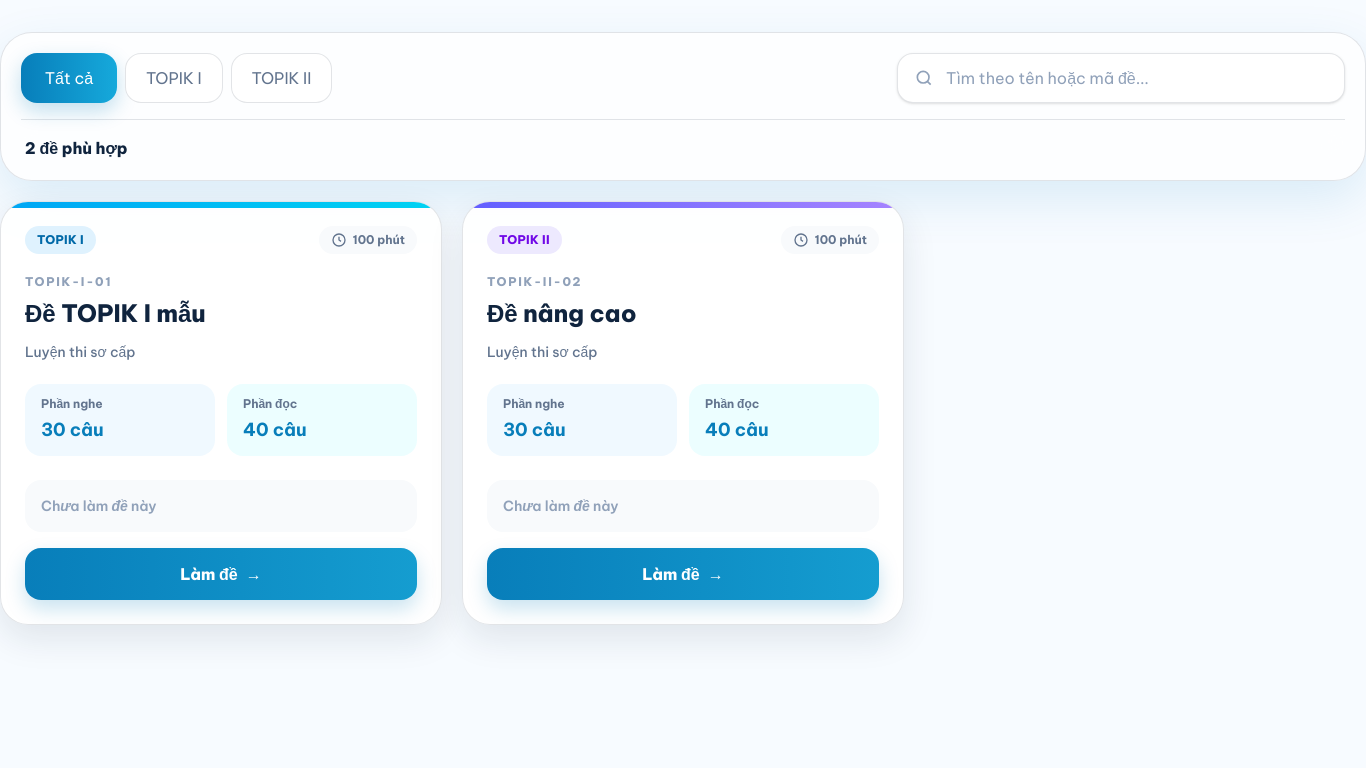
it: ExamLibraryGrid › lọc theo cấp độ và tìm kiếm không dấu
The image size is (1366, 768).
Click the button "TOPIK II": [281, 78] box [231,53,332,103]
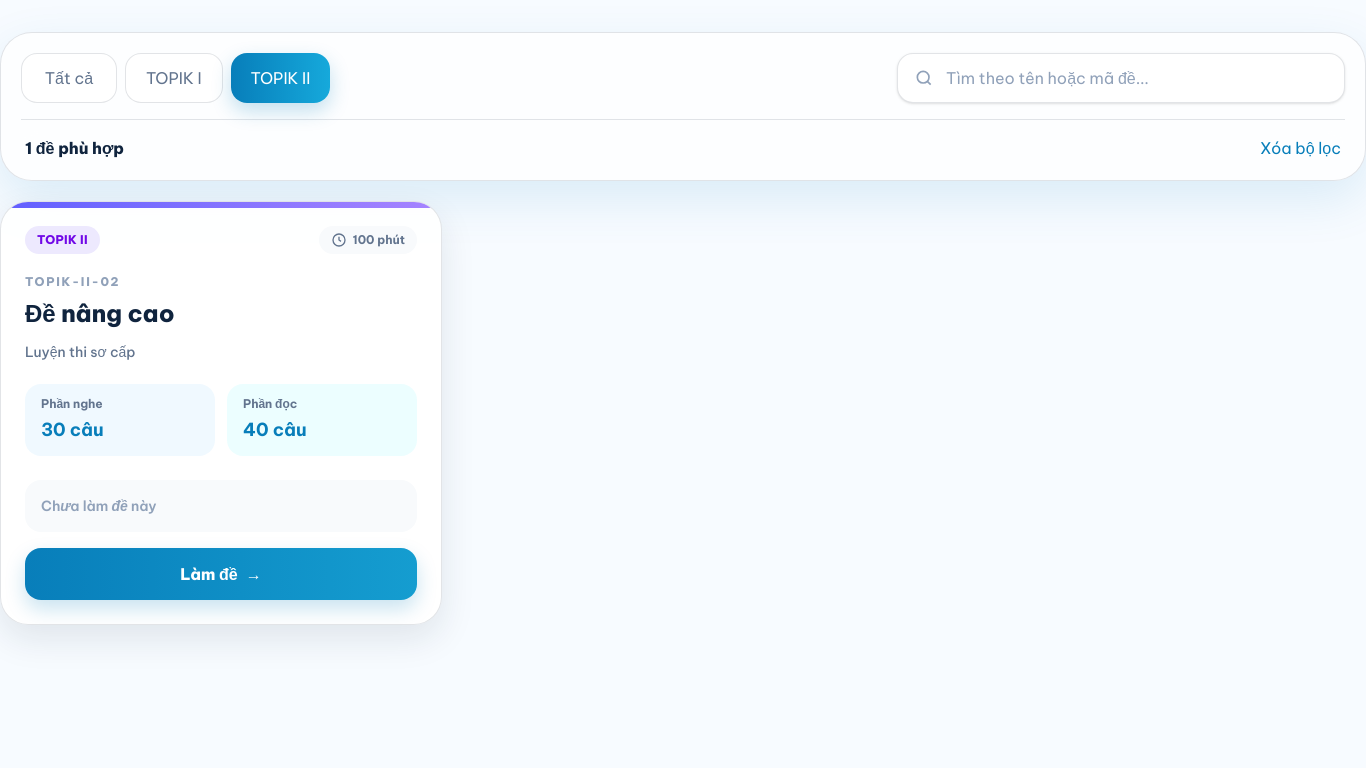
Expected: the heading "Đề nâng cao" is shown, [25,298,175,328]
Expected: the heading "Đề TOPIK I mẫu" is gone
Click the button "Tất cả": [69, 78] box [21,53,117,103]
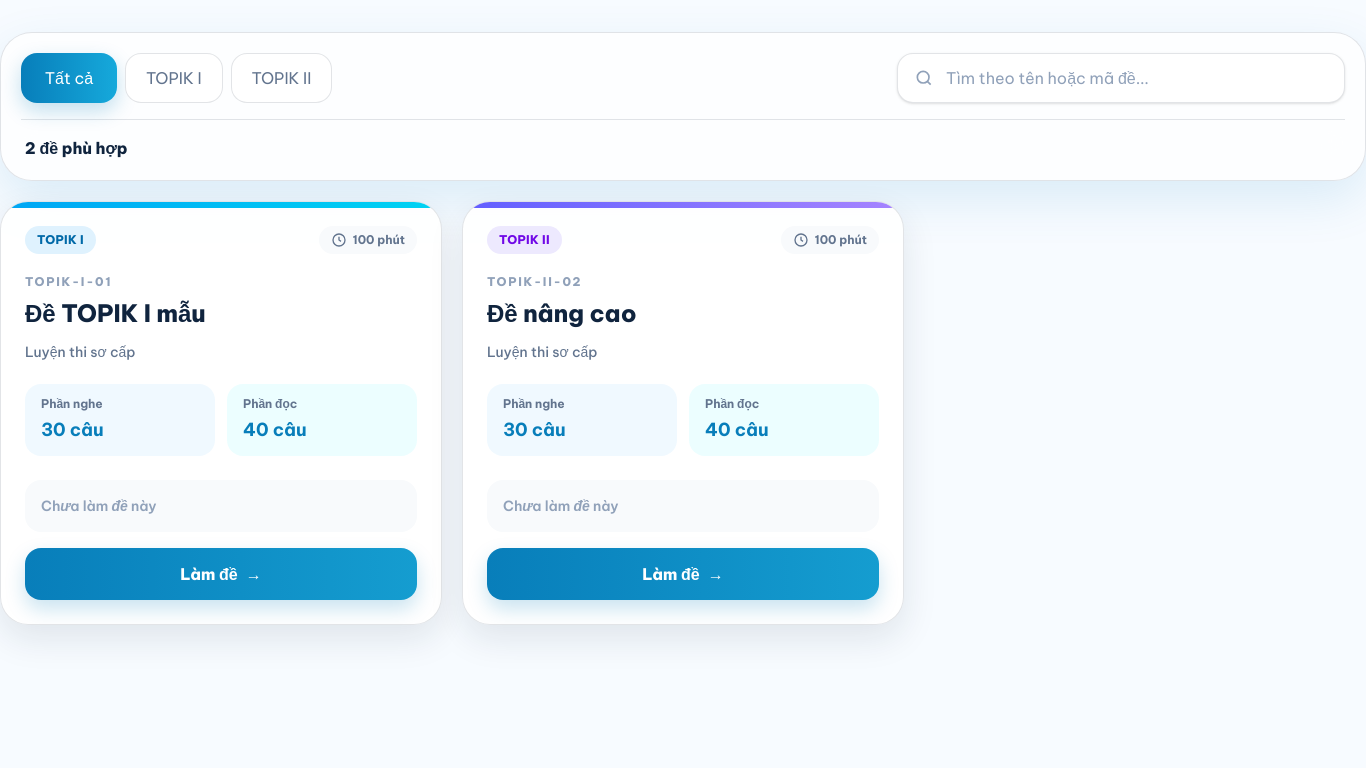
In the search field named "Tìm đề thi": [1137, 78] box [946,54,1328,102], type "nang cao"
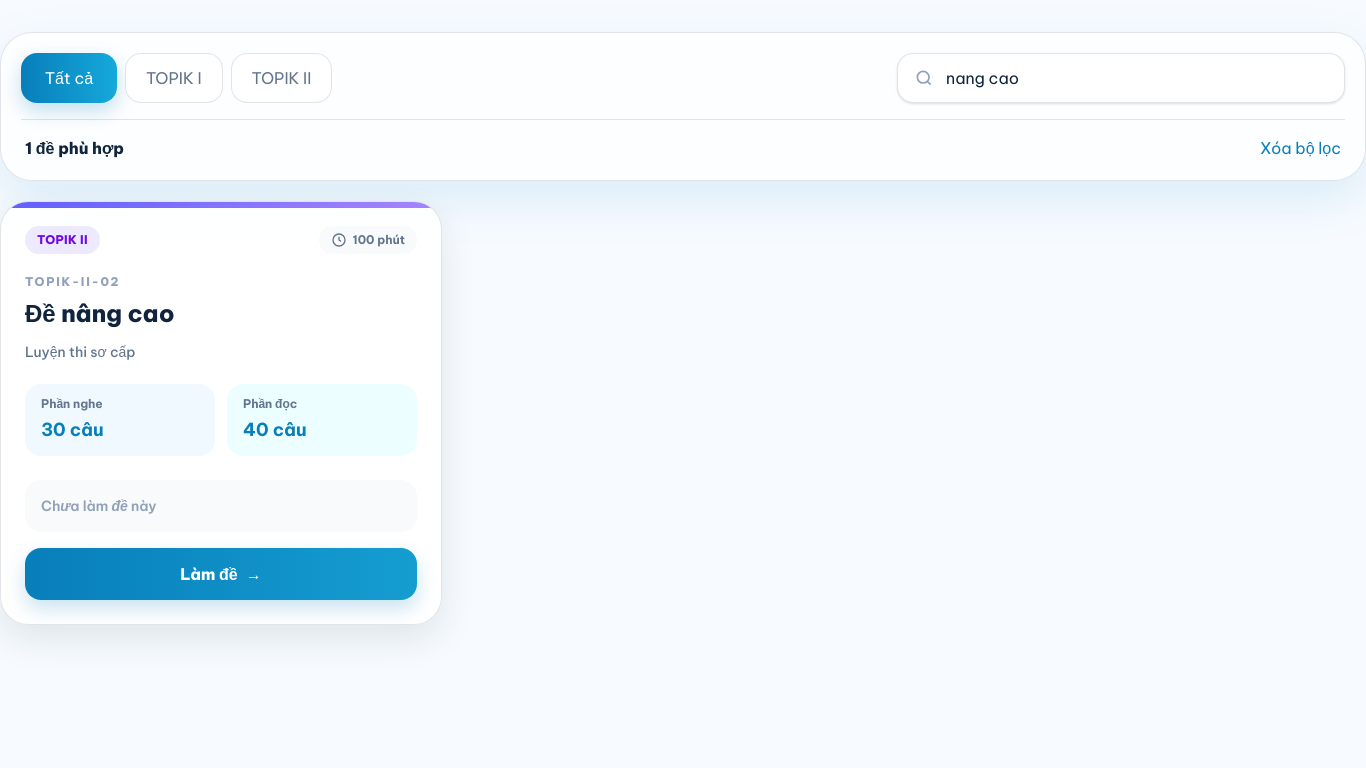
Expected: the heading "Đề nâng cao" is shown, [25,298,175,328]
Expected: the heading "Đề TOPIK I mẫu" is gone
